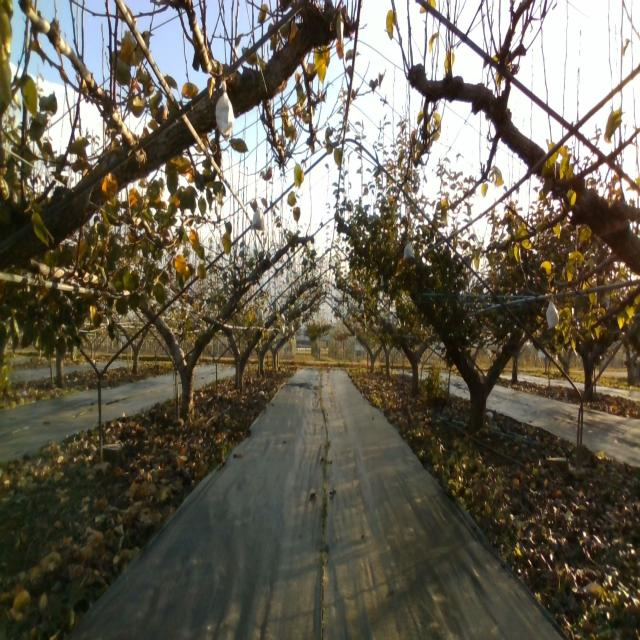pearbags: (216, 80, 236, 142), (546, 300, 560, 328), (250, 208, 266, 232), (403, 243, 415, 261)
